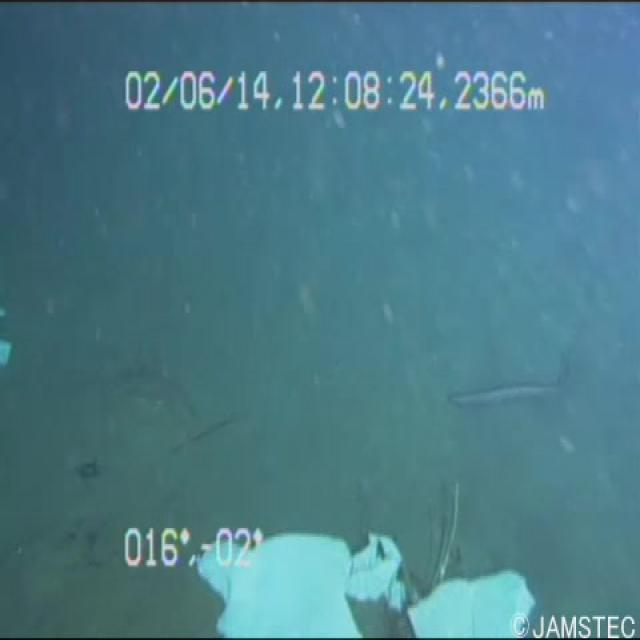plastic: (188, 516, 400, 638), (388, 558, 540, 638)
